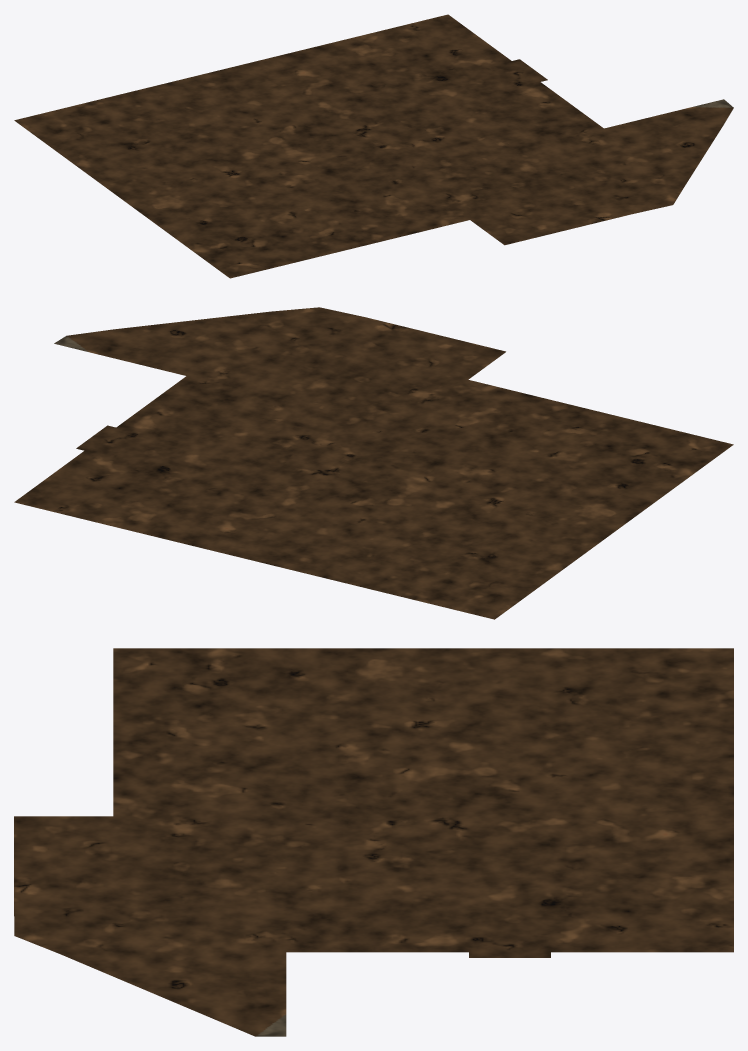
File: kitchen_0_0.floor.glb
3 renders of one model, top to bottom at view 1: azimuth 30°, elevation 25°; view 2: azimuth 150°, elevation 25°; view 3: azimuth 270°, elevation 25°, orthographic. The views are drawn at different scales.
Visible parts, largest first — view 1: kitchen_0/0.floor.001; view 2: kitchen_0/0.floor.001; view 3: kitchen_0/0.floor.001.
Boxes of the visible parts, bbox=[...] form: kitchen_0/0.floor.001: bbox=[14, 14, 733, 278]; kitchen_0/0.floor.001: bbox=[14, 307, 733, 619]; kitchen_0/0.floor.001: bbox=[14, 648, 733, 1036].
Size of the model in its own units: 9.24 by 0.0159 by 7.24.
1 material, 1 textured.
